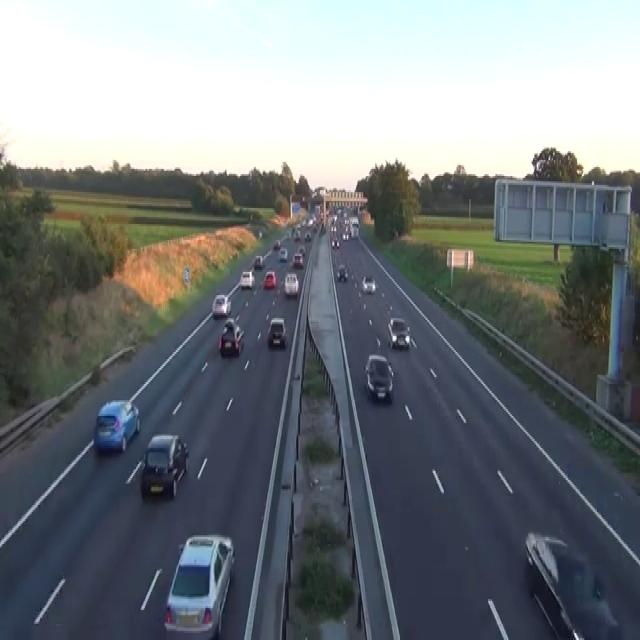Car: (524, 530, 620, 638), (163, 534, 235, 638), (140, 434, 188, 498), (93, 398, 140, 454), (364, 354, 393, 400), (218, 318, 244, 358), (387, 316, 410, 348), (268, 316, 286, 346), (211, 294, 231, 316), (283, 272, 299, 297), (239, 270, 255, 288), (361, 274, 375, 293), (263, 270, 276, 288), (336, 263, 347, 281), (292, 252, 303, 268), (254, 254, 263, 268), (278, 247, 287, 261), (350, 224, 358, 238), (331, 236, 339, 249), (307, 215, 315, 228), (350, 217, 359, 227), (273, 238, 280, 249), (298, 245, 305, 256), (304, 231, 311, 242), (342, 229, 349, 240), (293, 229, 300, 240), (330, 224, 337, 235), (321, 222, 326, 233), (344, 217, 350, 226), (285, 230, 290, 238), (258, 228, 262, 236)
